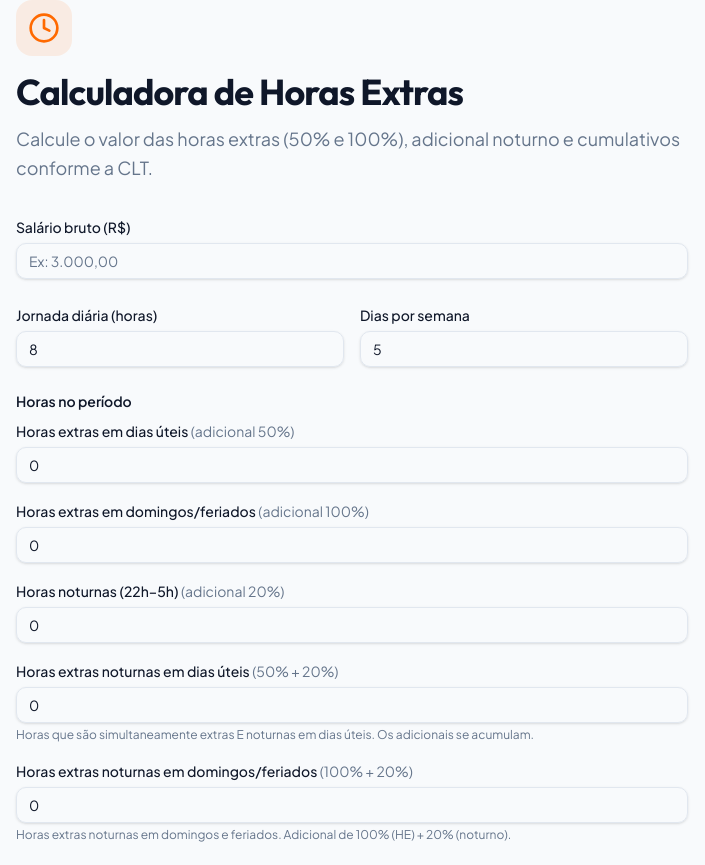
HorasExtrasPage — validação do formulário (Task 5.1) › exibe aviso de salário abaixo do mínimo sem bloquear cálculo
Note: Type a salary below the minimum (R$ 1.518)
Type "1000" into the field labelled "Salário bruto (R$)" at (352, 260), box [16,242,688,278]
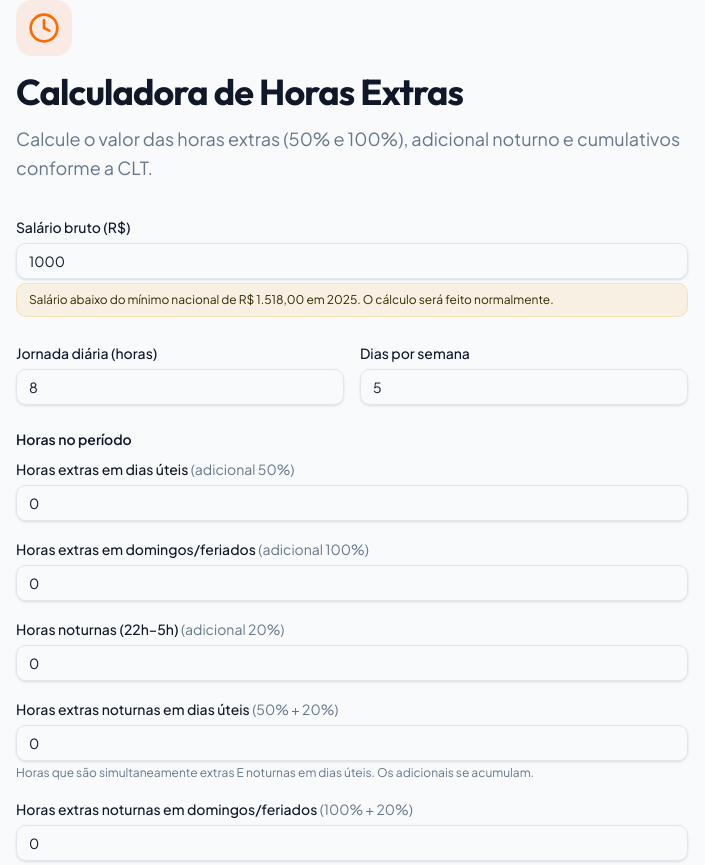
Expected: the text "abaixo do mínimo" is shown, [29,292,237,306]
